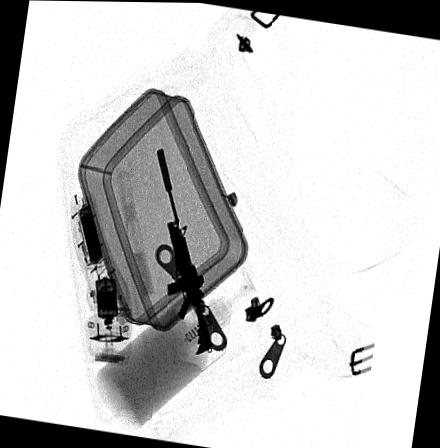Gun: (155, 146, 215, 355)
